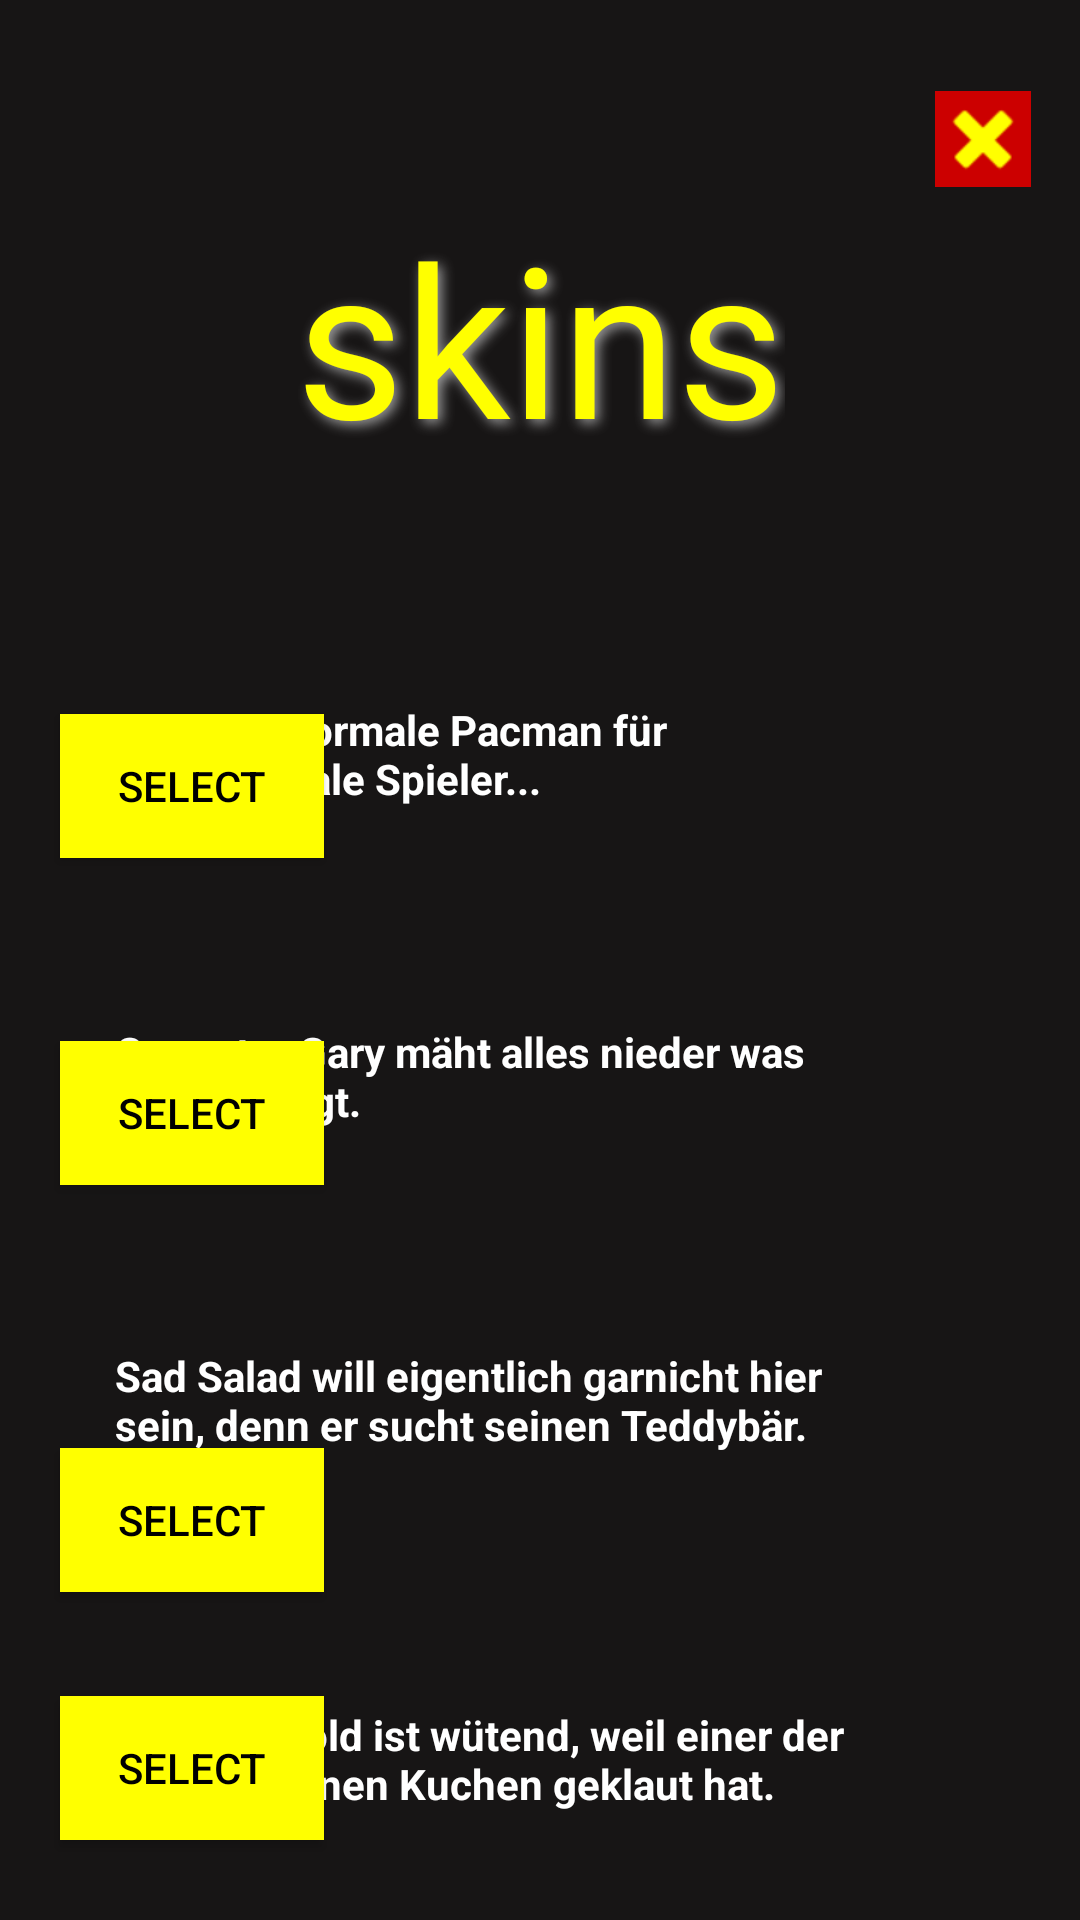

Screen size 1080 x 1920. Icon name, then its center in pixels as (x=x, y=y):
delete: (x=983, y=139)
